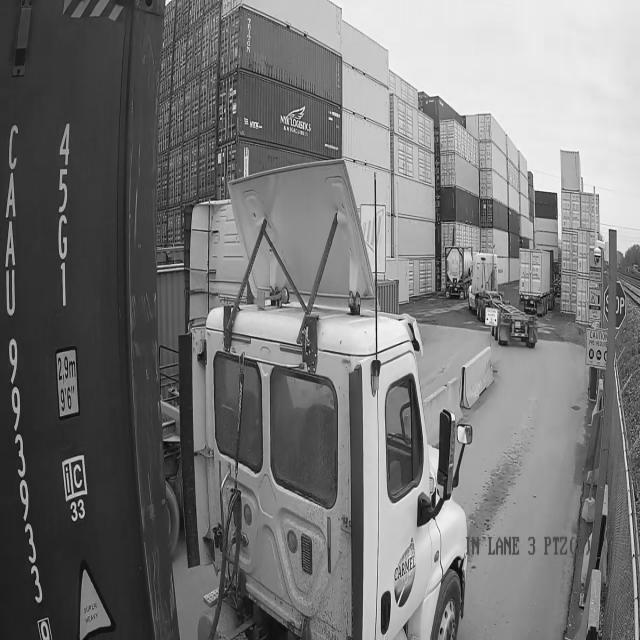container_side_no: (3, 124, 54, 613)
truck_company: (394, 538, 416, 606)
truck_with_container: (180, 161, 471, 639), (0, 0, 179, 639)
truck_without_container: (468, 254, 537, 348)
